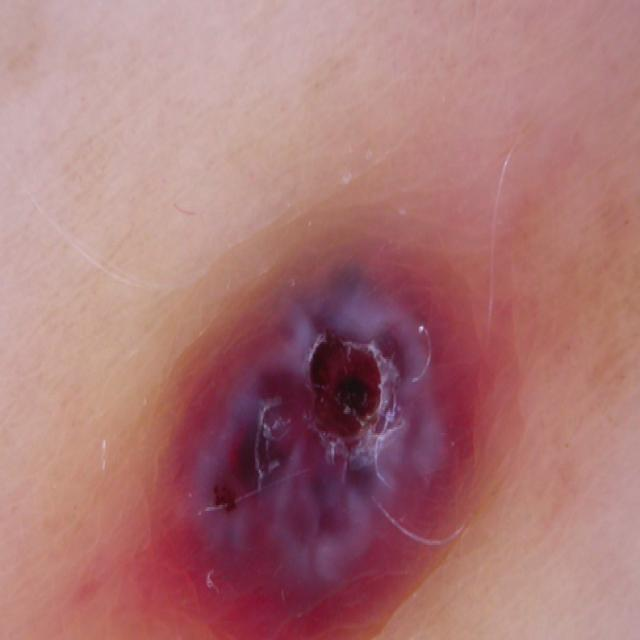Vascular Lesions: (144, 197, 530, 640)
